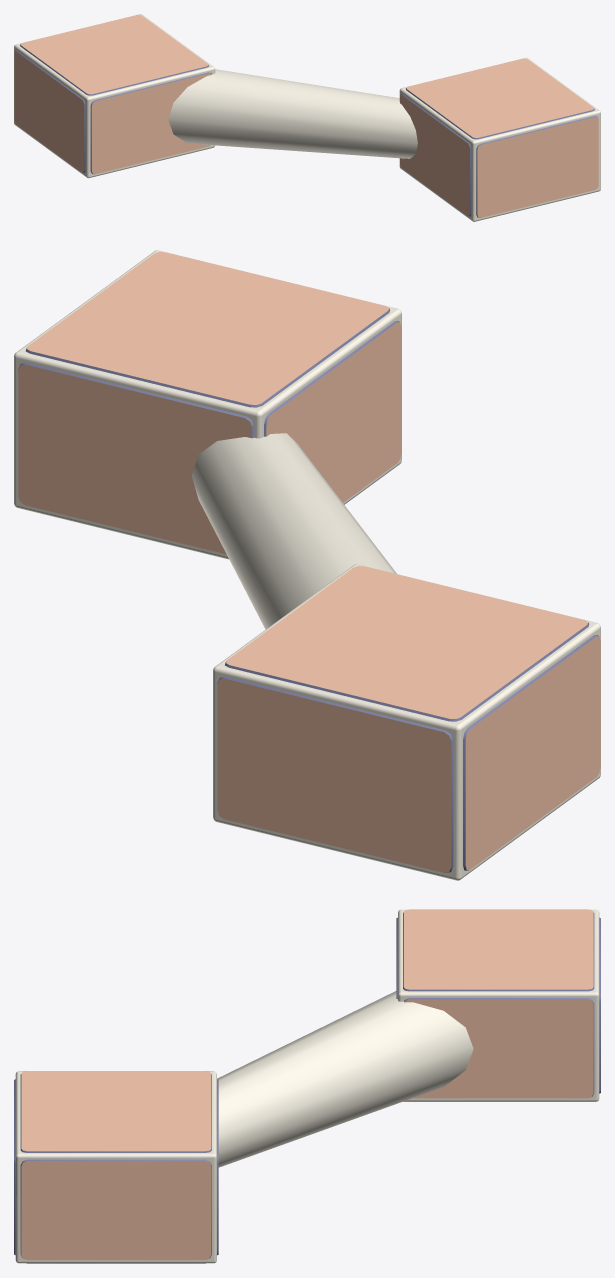
File: R4C_ROD_DIAG_2D_SHORT.fbx
The picture shows the model from 3 angles, top to bottom: view 1: azimuth 30°, elevation 25°; view 2: azimuth 150°, elevation 25°; view 3: azimuth 270°, elevation 25°; orthographic projection. The views are drawn at different scales.
Visible parts, largest first — view 1: R4C_ROD_DIAG_2D_SHORT; view 2: R4C_ROD_DIAG_2D_SHORT; view 3: R4C_ROD_DIAG_2D_SHORT.
Part boxes in pixels (left/top/right/bottom): R4C_ROD_DIAG_2D_SHORT: left=14, top=14, right=600, bottom=221; R4C_ROD_DIAG_2D_SHORT: left=14, top=250, right=600, bottom=880; R4C_ROD_DIAG_2D_SHORT: left=14, top=909, right=600, bottom=1263.
Bounding box in the file's own units: 1.07 × 0.226 × 1.07.
